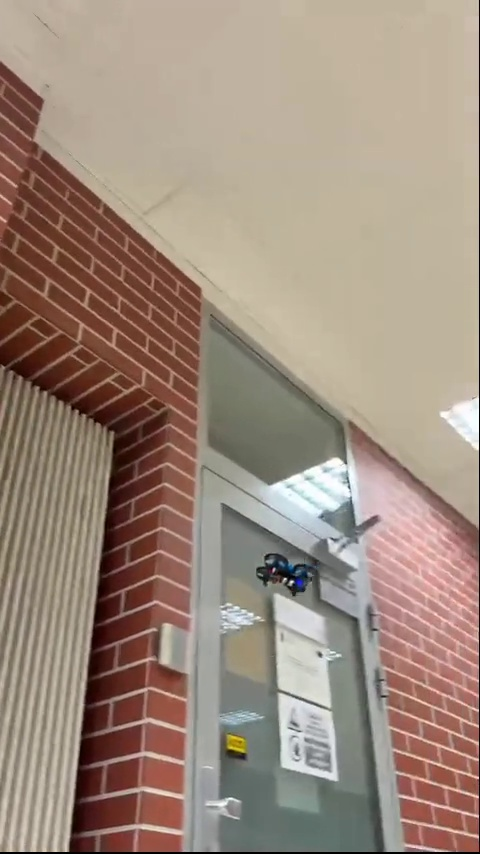drone: (254, 548, 311, 593)
